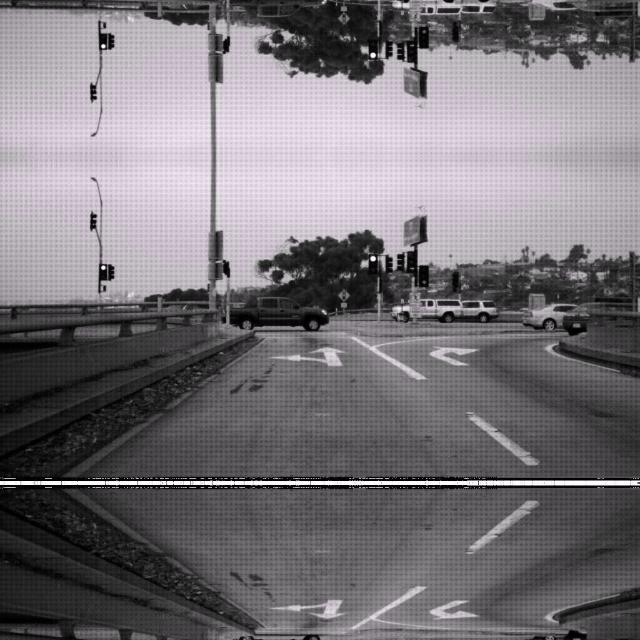signalAhead: (336, 288, 349, 300), (336, 12, 349, 24)
